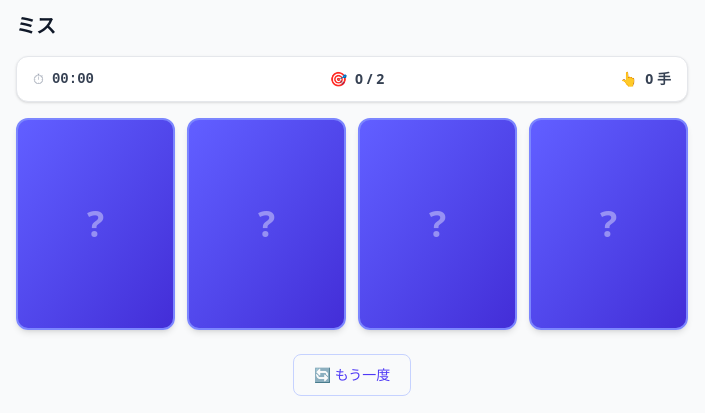
Test: MatchingGame › reveals a card and starts the move counter on a mismatch, then hides them again
This screenshot has width=705, height=413.
Click a mismatched pair: apple (english) + いぬ (japanese, wrong pair).
Click the button "? EN apple" at (608,224), box [529,118,688,330]
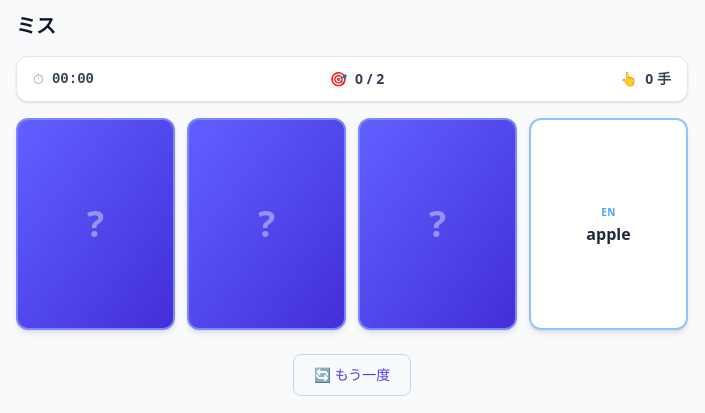
Click the button "? JA いぬ" at (438,224), box [358,118,517,330]
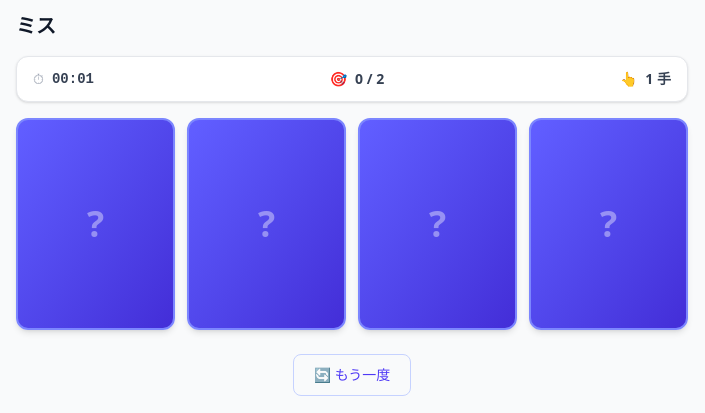
expect the text "1 手" is shown: met, box [645,69,671,89]
